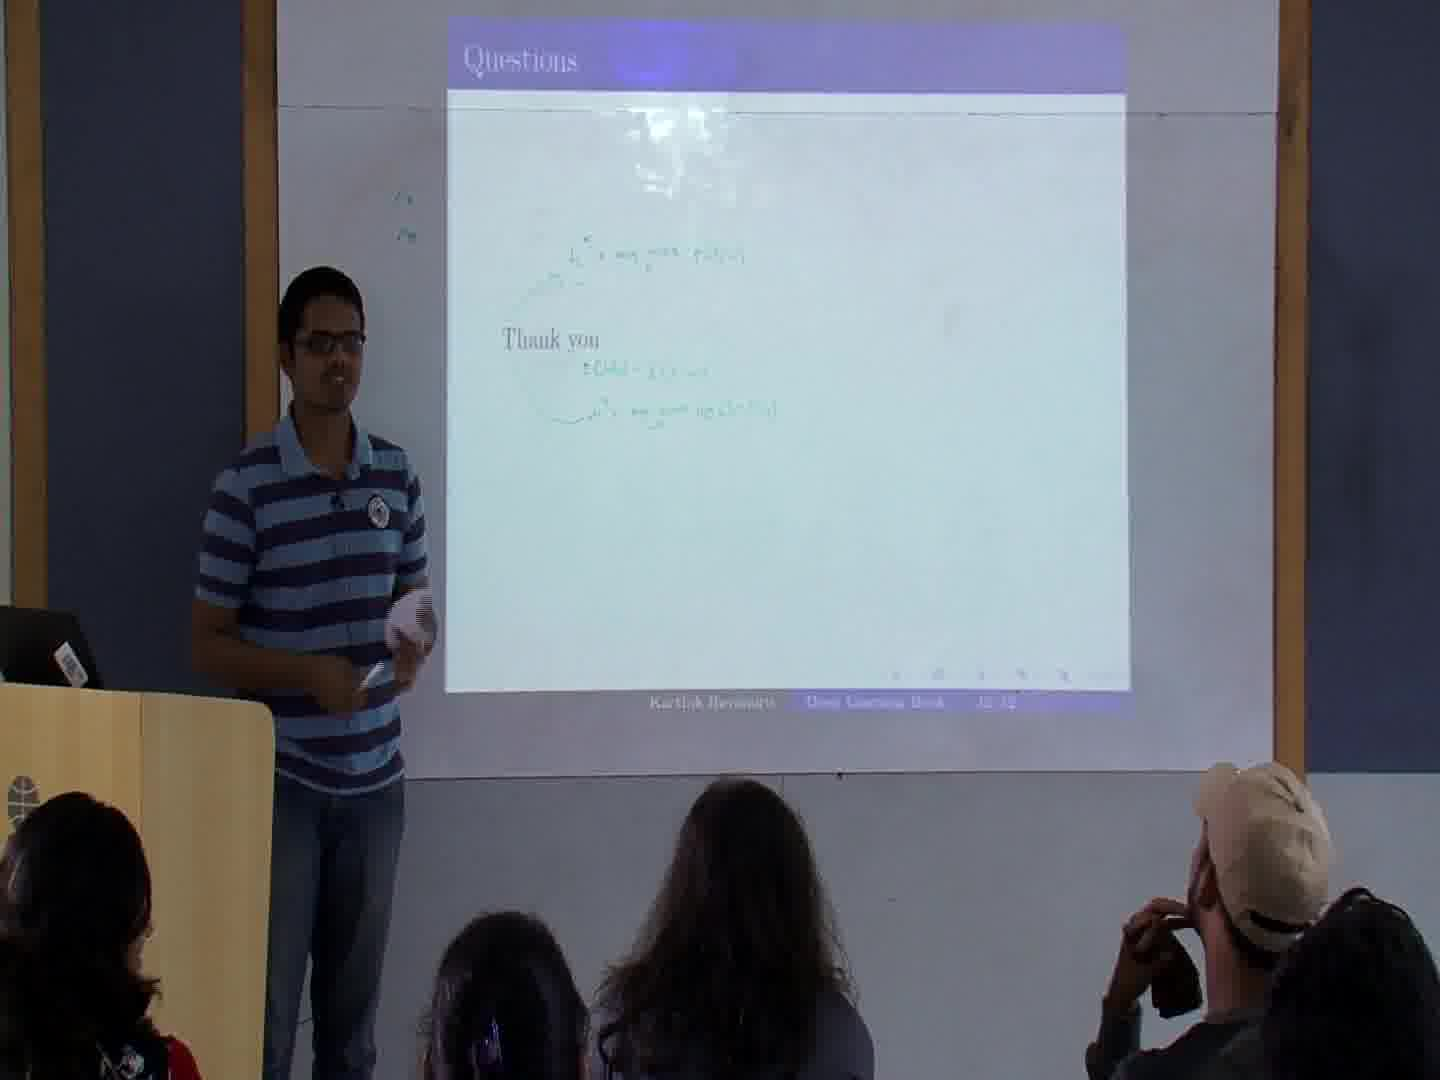slide: (444, 20, 1130, 716)
